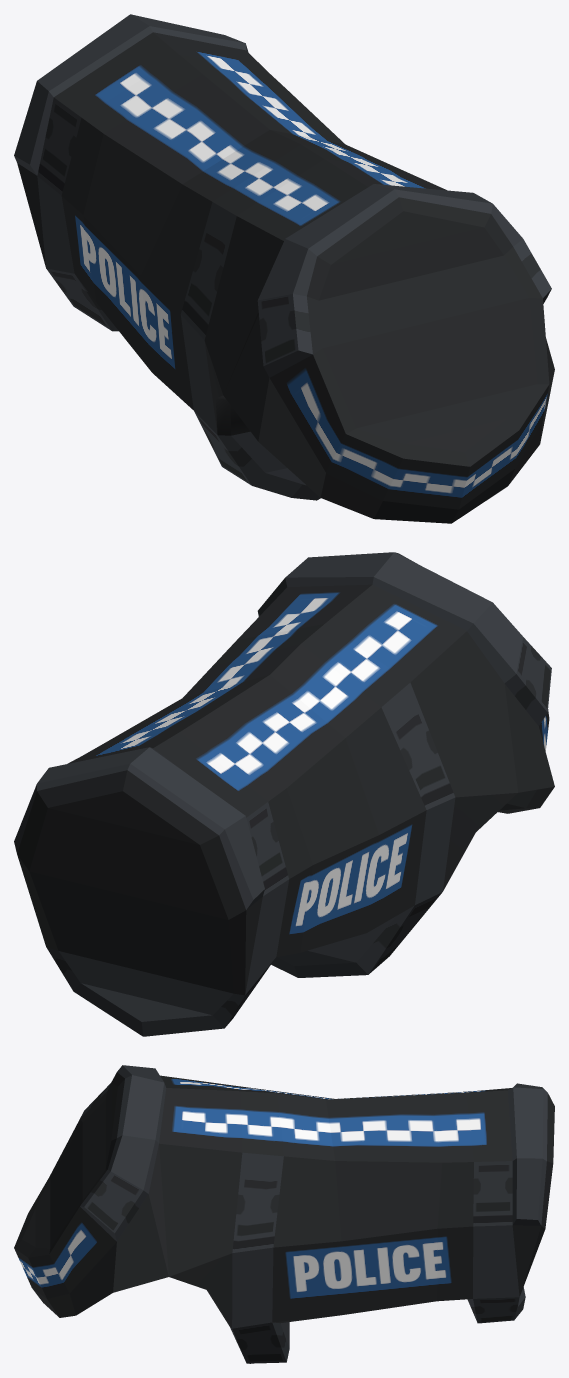
Rendered from SK_Chr_Attach_Vest_Police_Medium_01.fbx.
The picture shows the model from 3 angles, top to bottom: view 1: azimuth 30°, elevation 25°; view 2: azimuth 150°, elevation 25°; view 3: azimuth 270°, elevation 25°; orthographic projection. The views are drawn at different scales.
Parts seen in each view (by area): view 1: SK_Chr_Attach_Vest_Police_Medium_01; view 2: SK_Chr_Attach_Vest_Police_Medium_01; view 3: SK_Chr_Attach_Vest_Police_Medium_01.
Boxes of the visible parts, <box> form: SK_Chr_Attach_Vest_Police_Medium_01: <box>14,14,554,523</box>; SK_Chr_Attach_Vest_Police_Medium_01: <box>14,552,554,1036</box>; SK_Chr_Attach_Vest_Police_Medium_01: <box>14,1065,554,1363</box>.
Size of the model in its own units: 33.58 by 39.8 by 68.11.
